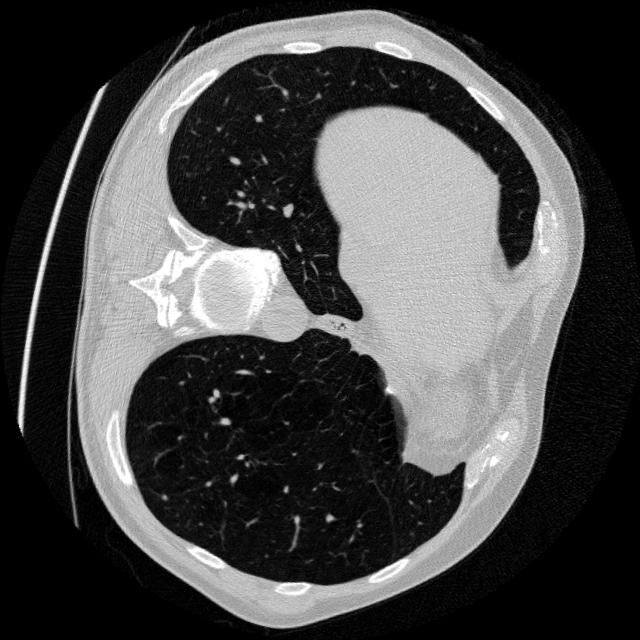nodule: (270, 192, 304, 226)
